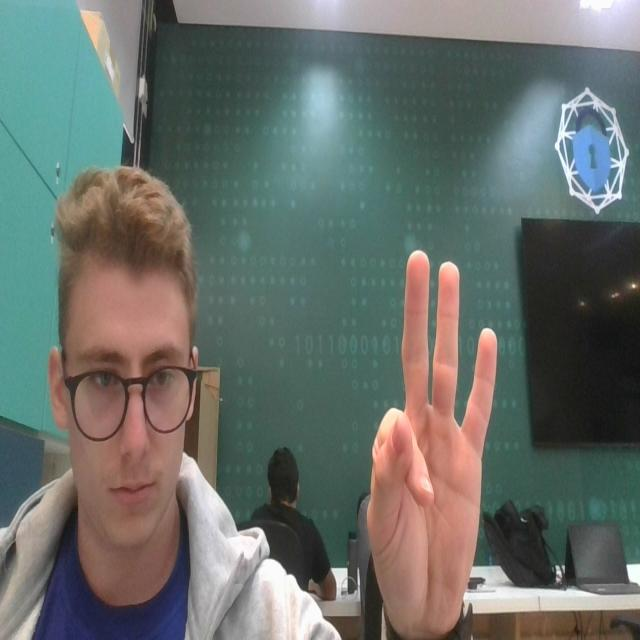F: (362, 240, 514, 638)
